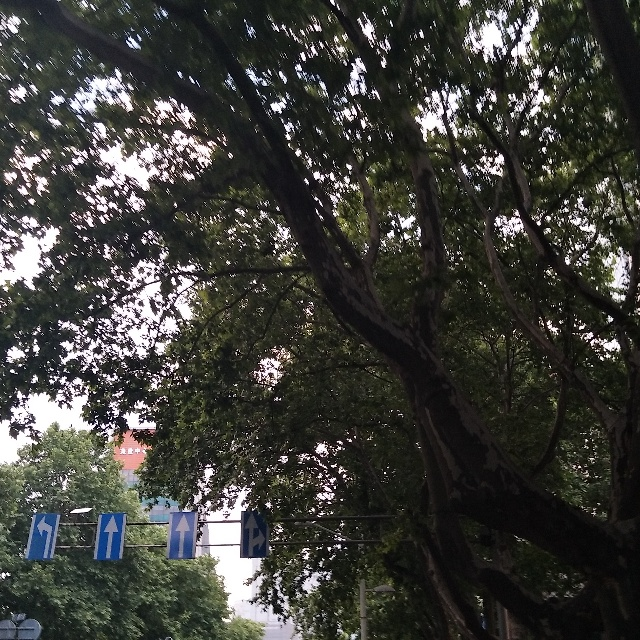left: (26, 513, 60, 561)
straight: (166, 512, 197, 559), (94, 513, 125, 559)
